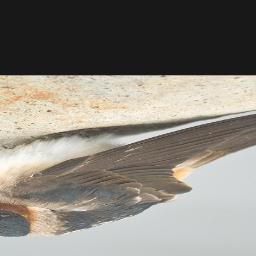Swallow: (0, 107, 256, 238)
